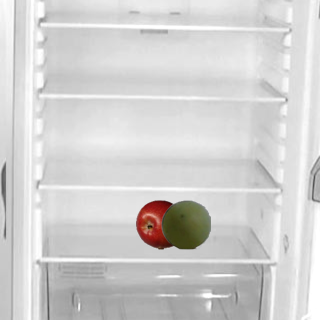Apple Braeburn: (135, 199, 185, 249)
Grape White 4: (160, 199, 210, 249)
